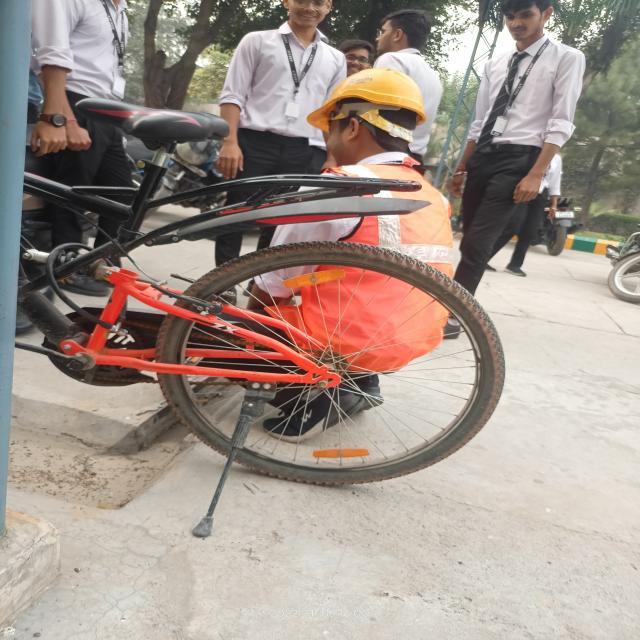no jacket: (451, 60, 598, 341)
safe: (245, 72, 456, 436)
